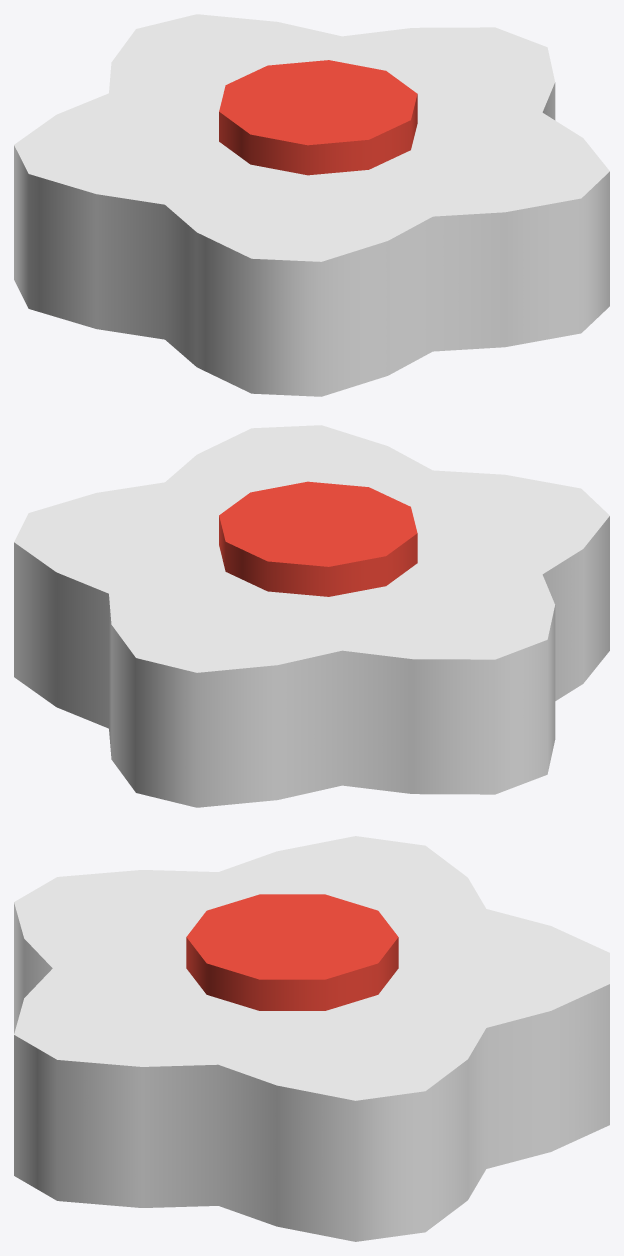
Rendered from Flower.fbx.
The picture shows the model from 3 angles, top to bottom: view 1: azimuth 30°, elevation 25°; view 2: azimuth 150°, elevation 25°; view 3: azimuth 270°, elevation 25°; orthographic projection. The views are drawn at different scales.
Visible parts, largest first — view 1: Flower; view 2: Flower; view 3: Flower.
Boxes of the visible parts, left/top/right/bottom form: Flower: left=14, top=14, right=609, bottom=396; Flower: left=14, top=425, right=609, bottom=807; Flower: left=14, top=836, right=609, bottom=1241.
Size of the model in its own units: 52.66 by 16 by 50.09.
